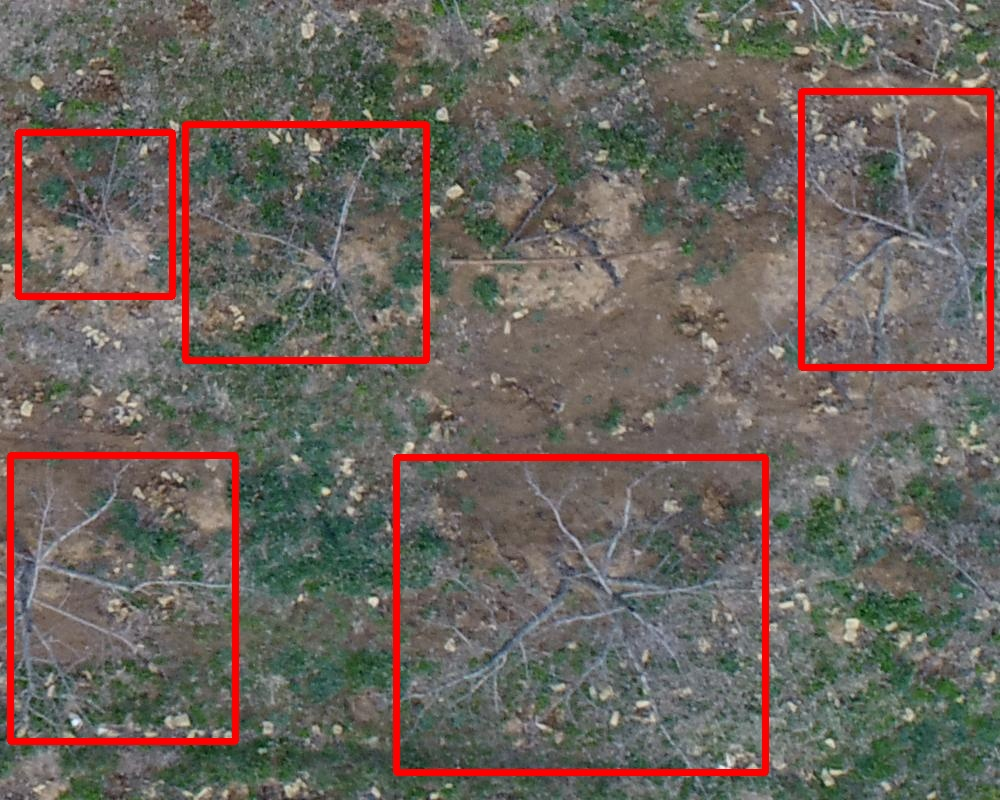apple: (396, 457, 765, 772), (10, 455, 235, 741), (185, 124, 426, 360), (801, 91, 990, 367), (18, 132, 172, 296)
